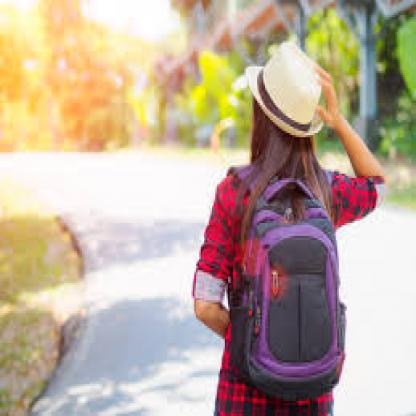morral: (217, 161, 355, 405)
